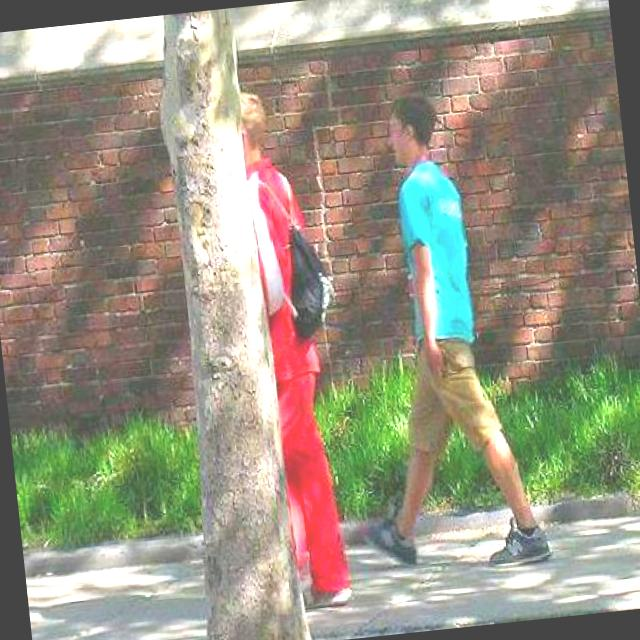Person: (325, 75, 556, 585), (232, 78, 368, 614)
